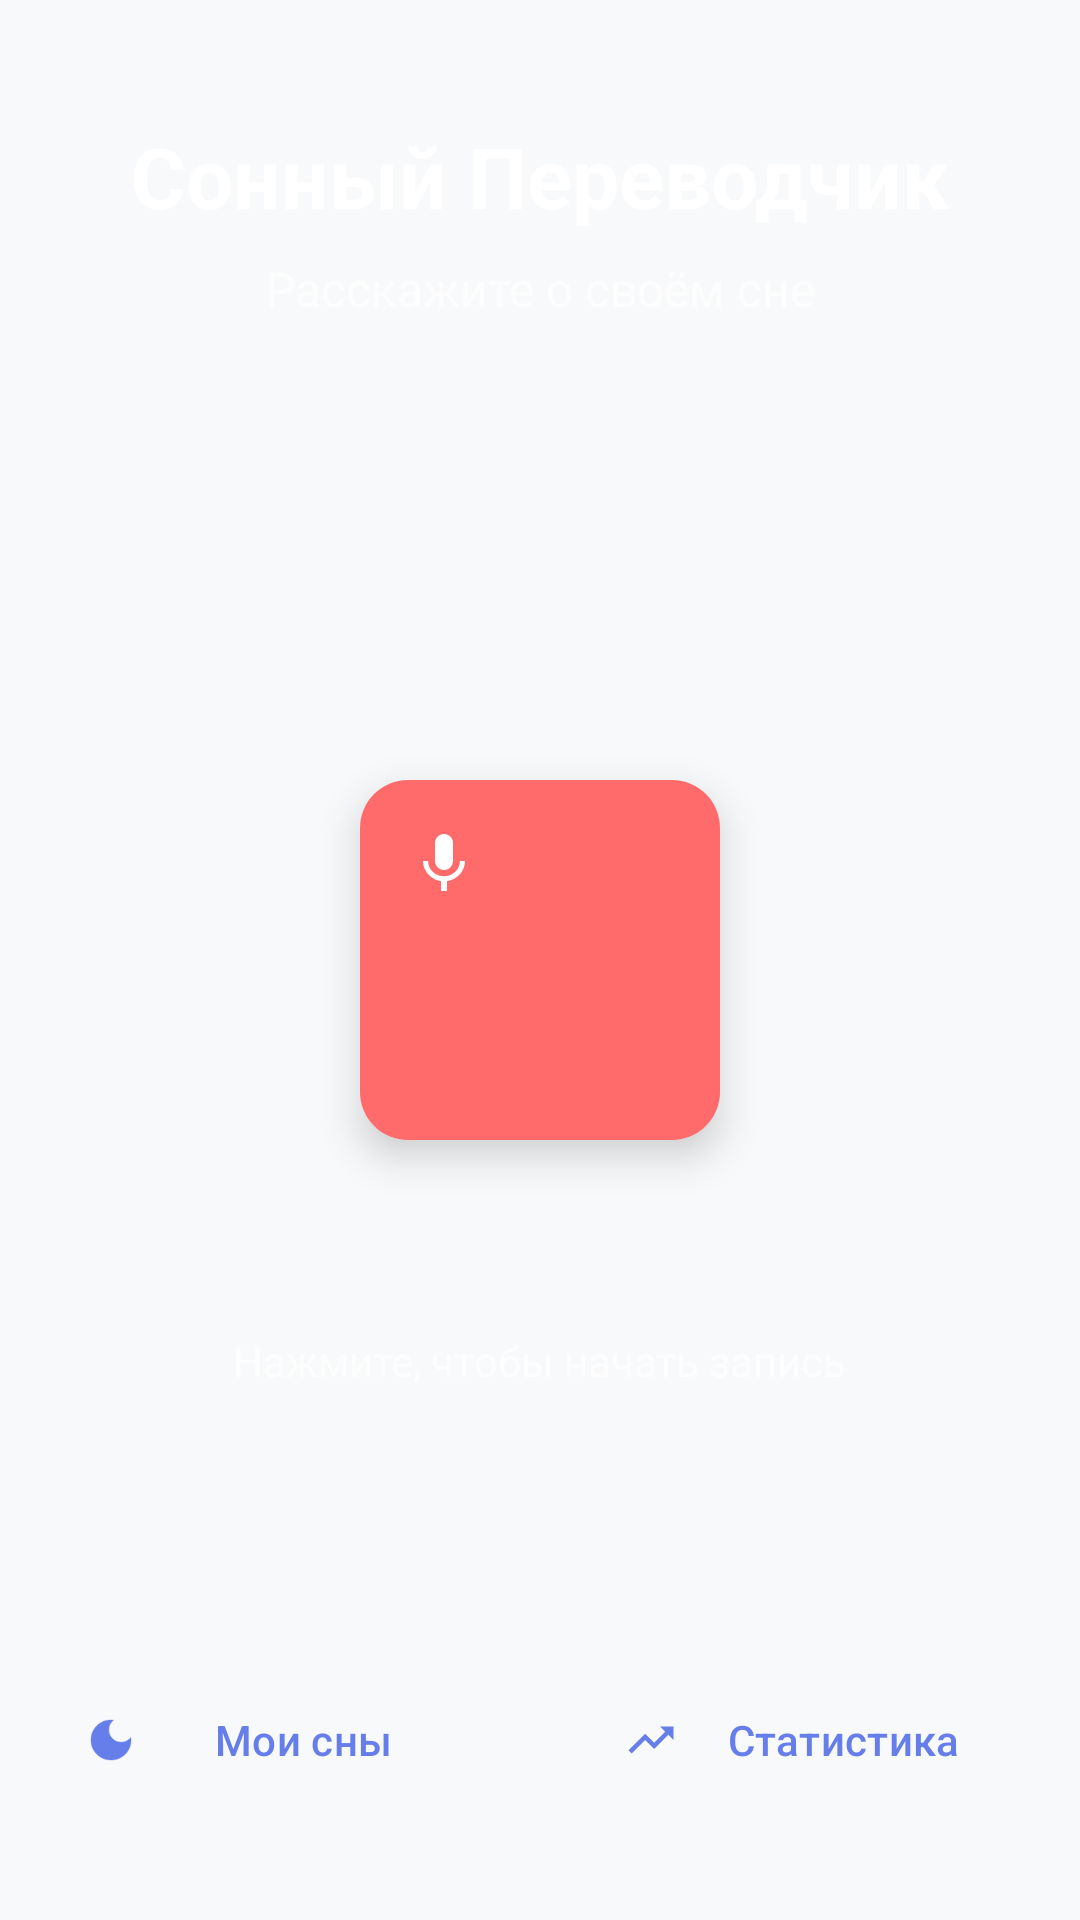

Where to tap for icons on this 1080 × 1920 app screen, as (x=x, y=y):
Записать сон: (x=540, y=960)
